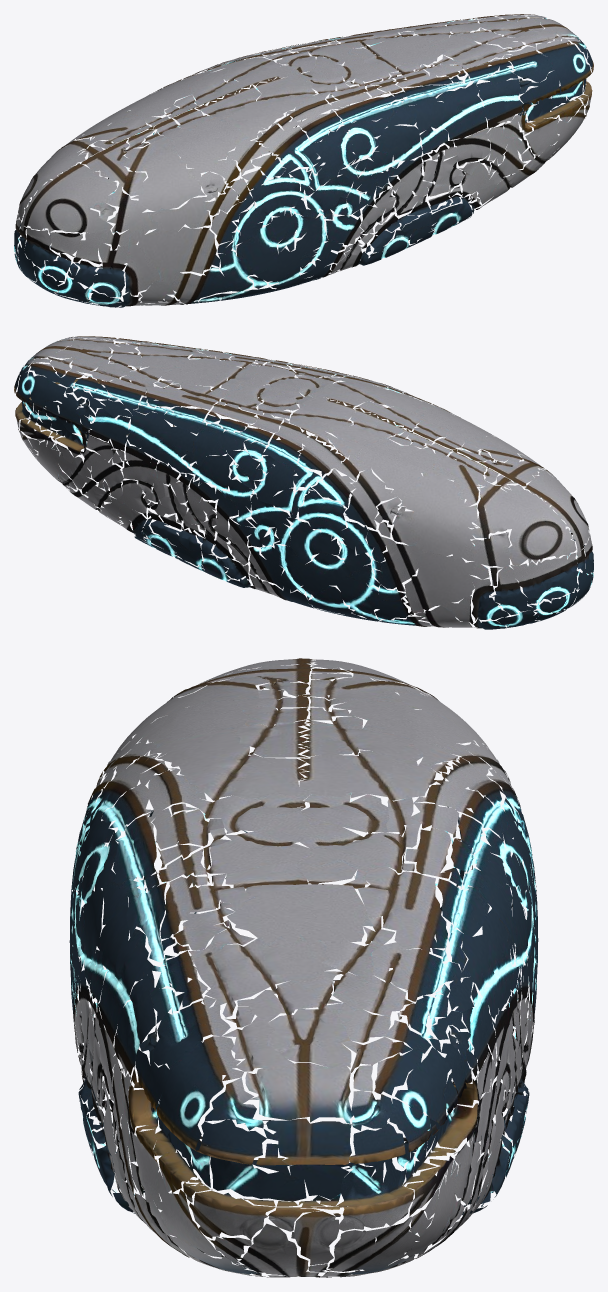
Rendered from starpod_pod.glb.
The picture shows the model from 3 angles, top to bottom: view 1: azimuth 30°, elevation 25°; view 2: azimuth 150°, elevation 25°; view 3: azimuth 270°, elevation 25°; orthographic projection. The views are drawn at different scales.
Bounding box in the file's own units: 1.9 × 0.5813 × 0.694.
Materials: 1 (1 with a texture image).
